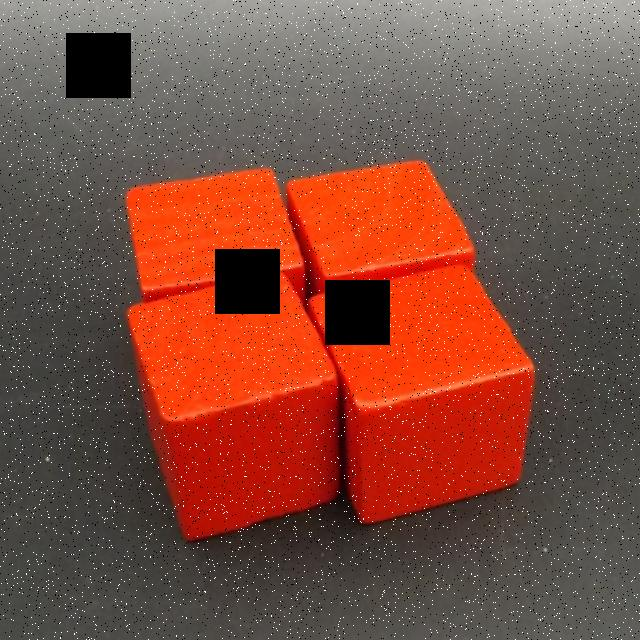red cube: (302, 263, 535, 522), (125, 268, 339, 544), (284, 158, 473, 296), (125, 166, 307, 306)
